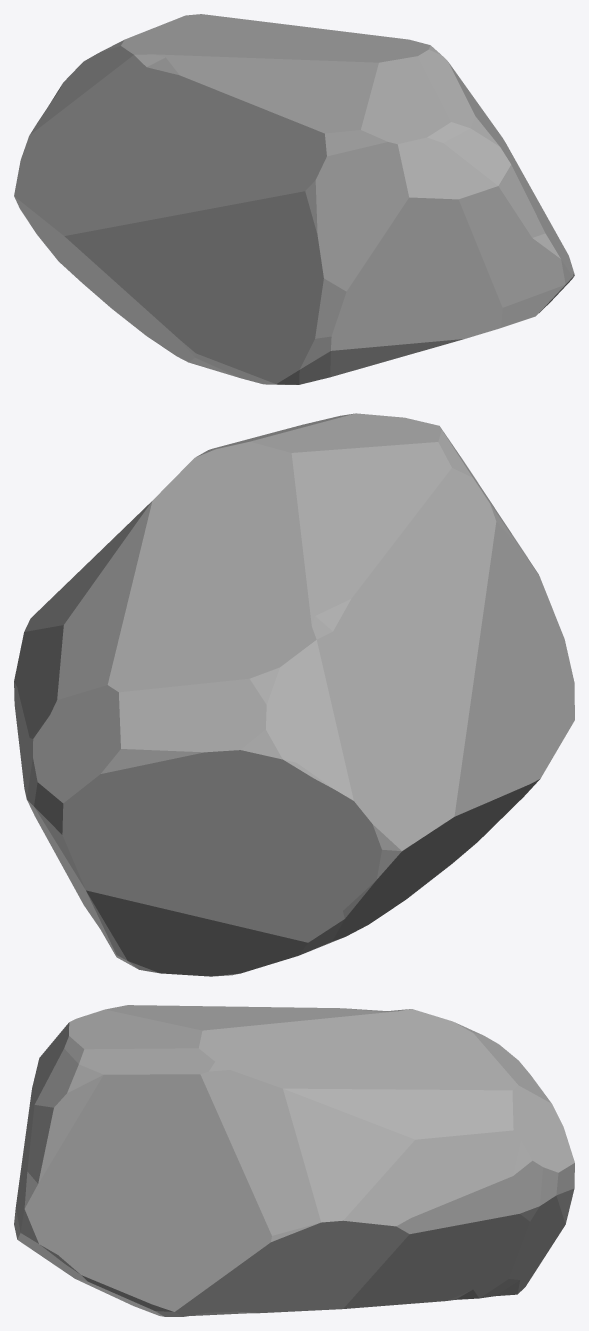
Rendered from rock_003.fbx.
The picture shows the model from 3 angles, top to bottom: view 1: azimuth 30°, elevation 25°; view 2: azimuth 150°, elevation 25°; view 3: azimuth 270°, elevation 25°; orthographic projection. The views are drawn at different scales.
Parts seen in each view (by area): view 1: Rock_003_LOD0; view 2: Rock_003_LOD0; view 3: Rock_003_LOD0.
Boxes of the visible parts, x1=… form: Rock_003_LOD0: x1=14, y1=14, x2=574, y2=384; Rock_003_LOD0: x1=14, y1=413, x2=574, y2=976; Rock_003_LOD0: x1=14, y1=1005, x2=574, y2=1316.
Size of what is drawn, in the model's own units: 144 by 107 by 190.
